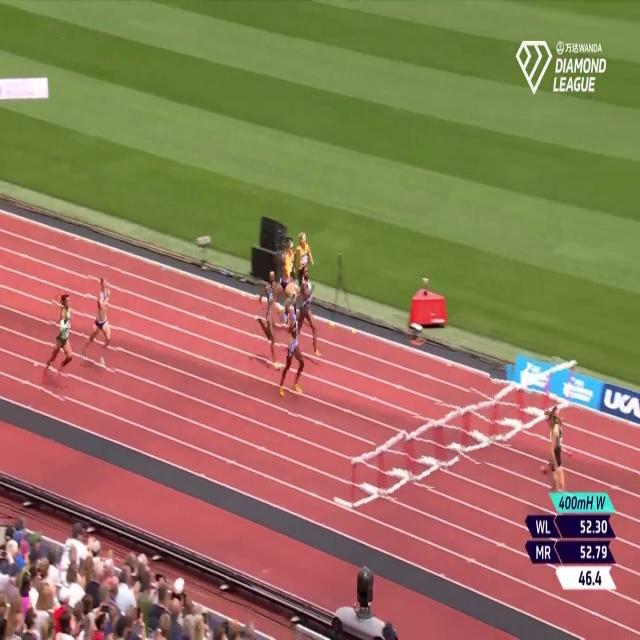athlete: (82, 265, 122, 379), (275, 294, 304, 418), (43, 292, 74, 404), (254, 263, 283, 369), (296, 266, 327, 361), (270, 236, 298, 324), (546, 400, 568, 497), (293, 227, 315, 298)
hurdle: (462, 387, 498, 464), (492, 365, 524, 446), (377, 430, 414, 500), (408, 414, 440, 490), (348, 445, 383, 512), (436, 400, 467, 470), (546, 357, 578, 418), (519, 368, 545, 439)
